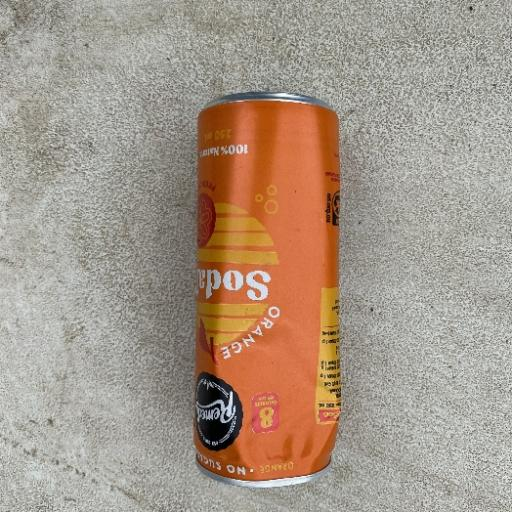Metal: (190, 91, 343, 488)
